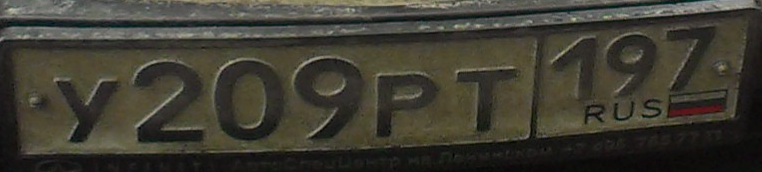character: (127, 57, 207, 151), (290, 55, 368, 147), (208, 53, 284, 147), (50, 69, 124, 149), (453, 59, 520, 140), (372, 70, 438, 142), (602, 30, 659, 103), (662, 24, 719, 95), (551, 32, 601, 109)
